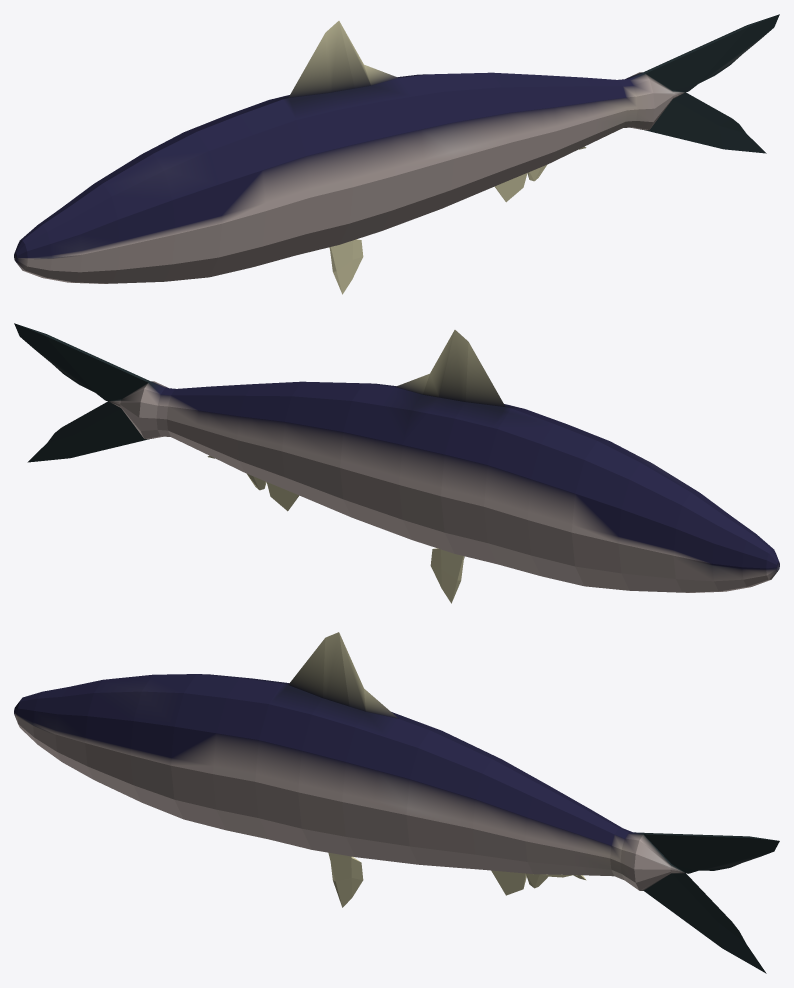
Rendered from JavierJalapeno.fbx.
The picture shows the model from 3 angles, top to bottom: view 1: azimuth 30°, elevation 25°; view 2: azimuth 150°, elevation 25°; view 3: azimuth 330°, elevation 25°; orthographic projection.
Visible parts, largest first — view 1: Cylinder; view 2: Cylinder; view 3: Cylinder.
Boxes of the visible parts, left/top/right/bottom form: Cylinder: left=14, top=14, right=779, bottom=294; Cylinder: left=14, top=323, right=779, bottom=603; Cylinder: left=14, top=632, right=779, bottom=973.
Bounding box in the file's own units: 154 × 52.86 × 19.12.
